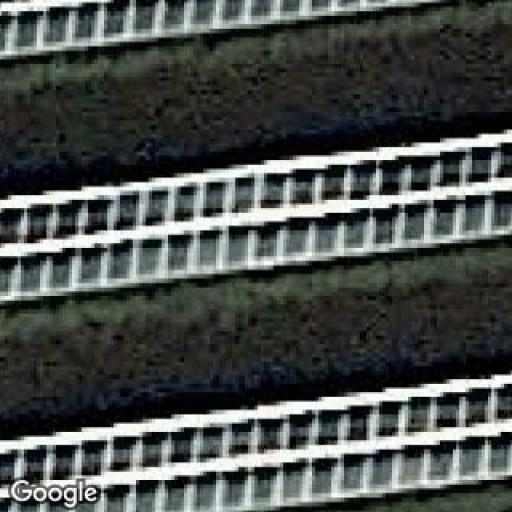solar-panel: (0, 132, 512, 310), (0, 368, 512, 512), (0, 0, 512, 59)
